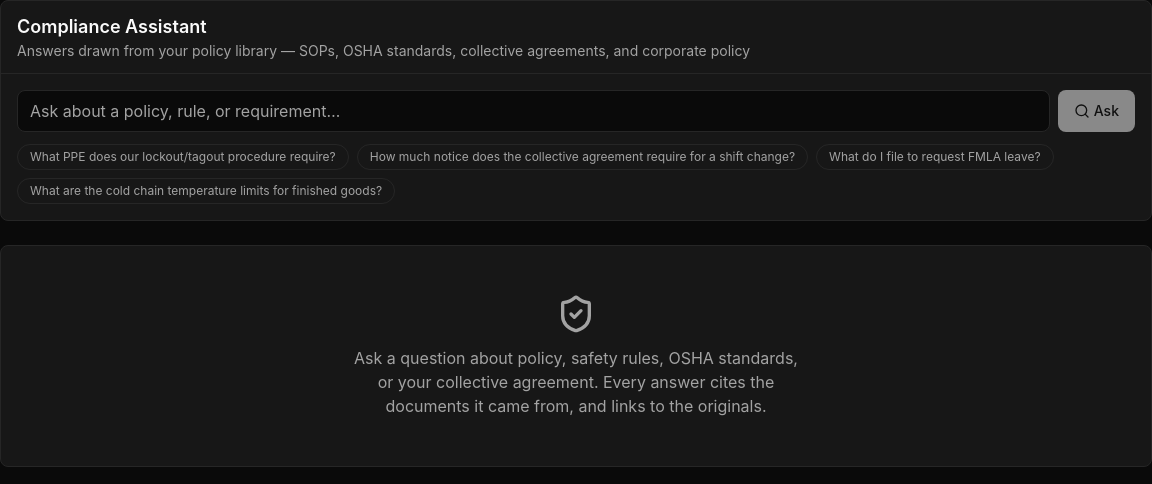
Test: Compliance Assistant › failure is not emptiness › an empty corpus says so plainly
Type "lockout procedure" into the field named "Compliance question".
click(533, 111); type("lockout procedure")  # box x1=17 y1=90 x2=1050 y2=132
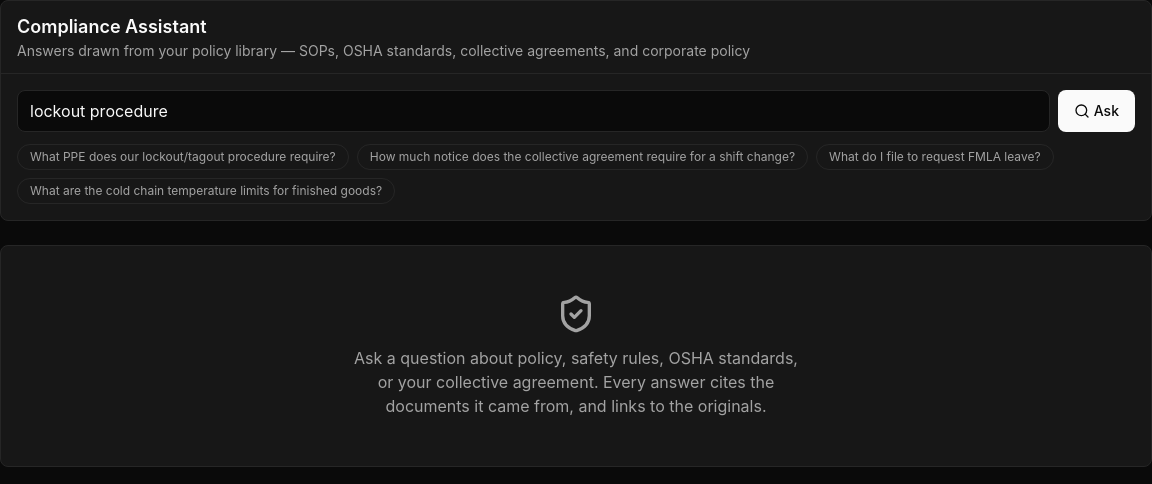
Click the button "Ask".
click(1096, 111)  # box x1=1058 y1=90 x2=1135 y2=132
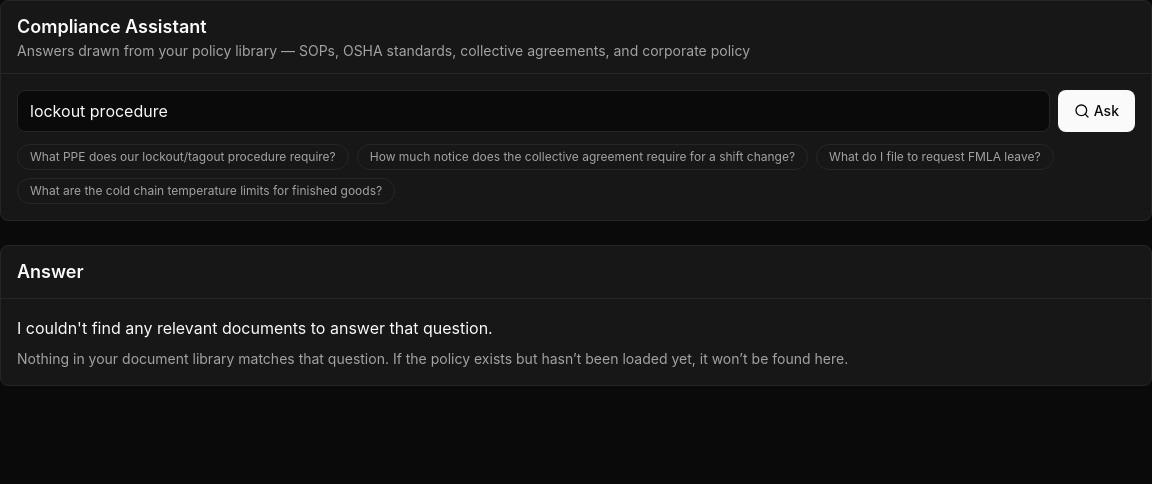
Result: the text "Nothing in your document library matches" is shown at x1=17 y1=350 x2=848 y2=367
